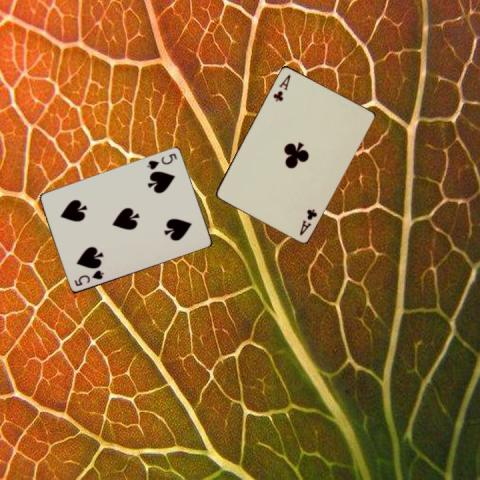5s: (144, 150, 179, 171), (72, 267, 106, 287)
Ac: (270, 71, 292, 103), (297, 205, 318, 237)
